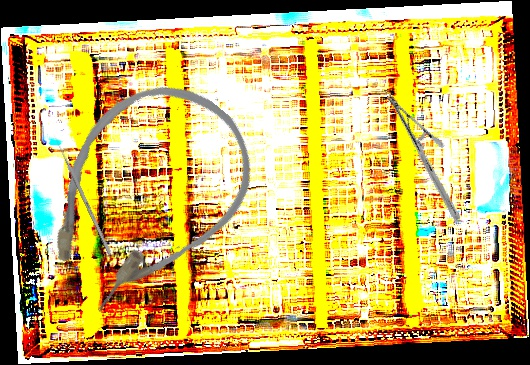Cannula: (3, 52, 283, 341)
Needle Holder: (349, 92, 498, 223)
Pusher: (52, 133, 112, 255)
